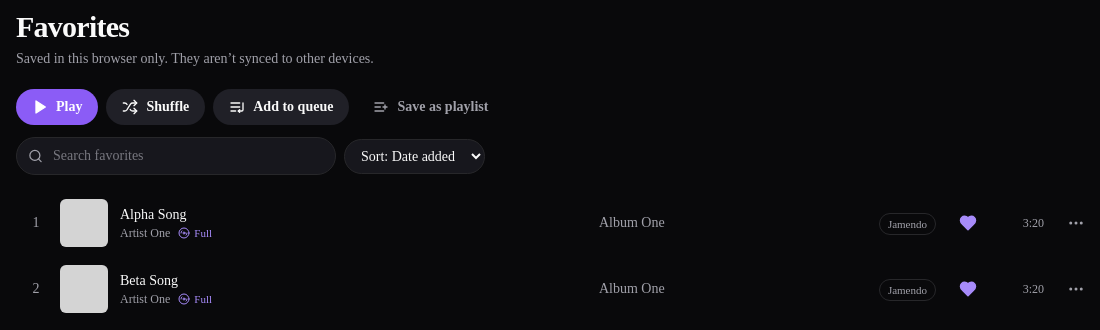
Test case: pages: loading, empty and error states › Favorites lists saved tracks and filters them
This screenshot has width=1100, height=330.
Expected: the text "Alpha Song" is shown, [120,207,186,222]
Type "beta" into the field labelled "Search favorites".
click(176, 156); type("beta")  # box [16,137,336,175]
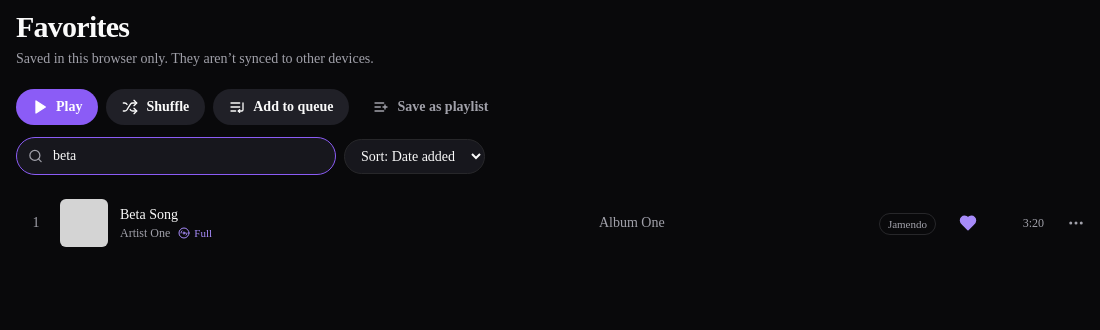
Expected: the text "Beta Song" is shown, [120,207,178,222]
Expected: the text "Alpha Song" is gone
